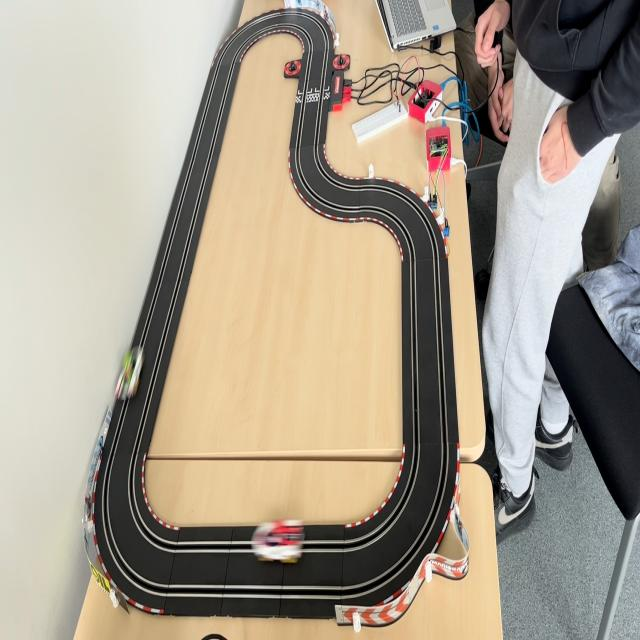mario: (250, 520, 310, 564)
yoshi: (117, 344, 147, 398)
